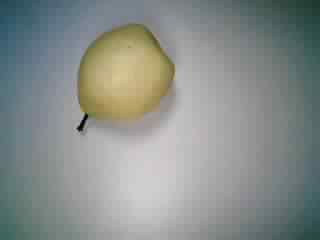pear: (54, 17, 180, 141)
